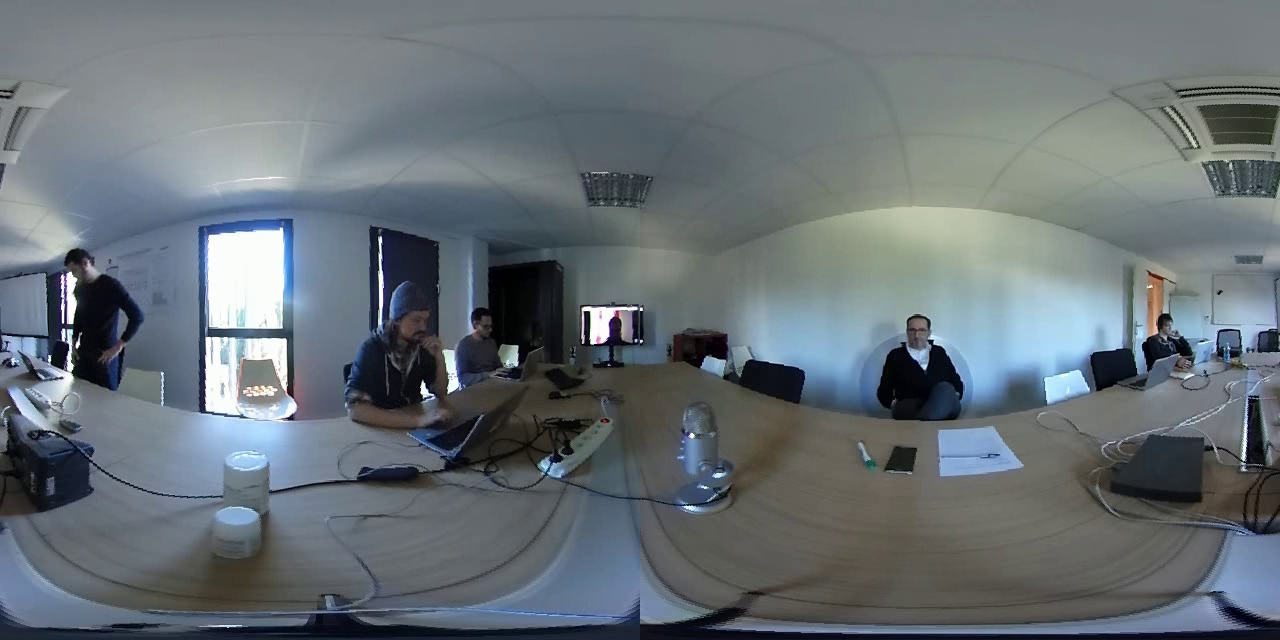person: (346, 277, 450, 406), (50, 246, 140, 371), (871, 304, 967, 413), (455, 297, 505, 376), (1138, 301, 1197, 364), (583, 303, 641, 341)
